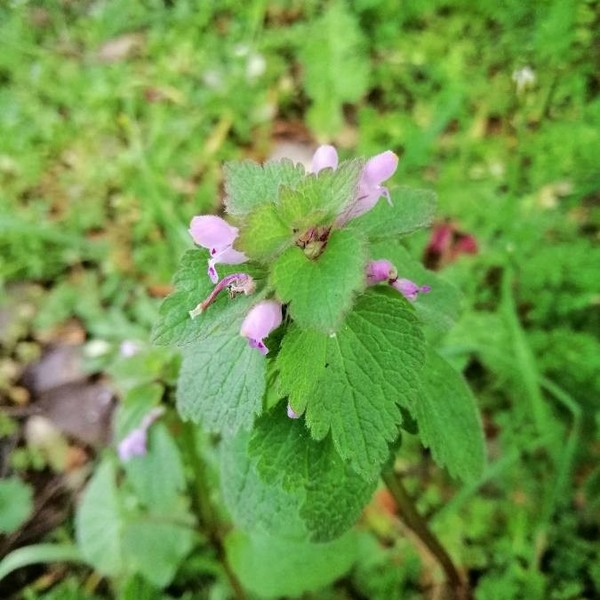obstacle: (98, 139, 488, 554)
